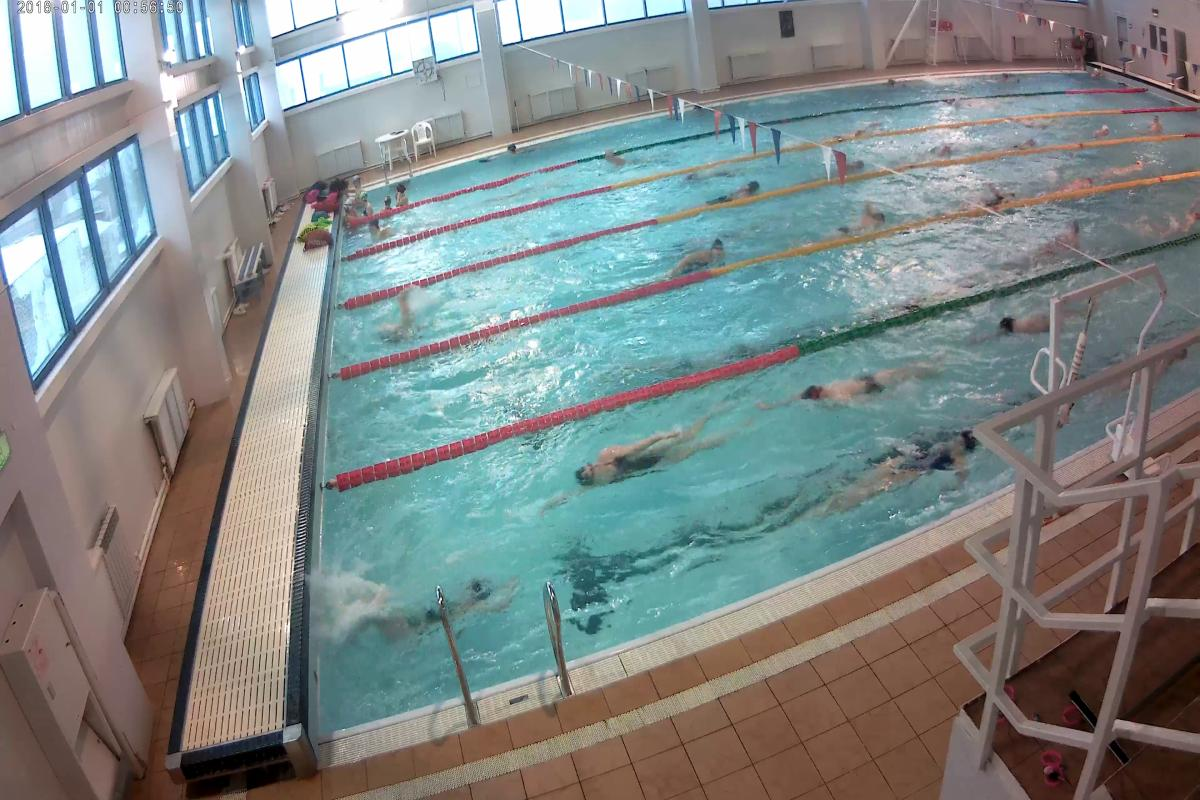swimmer: (552, 415, 708, 497), (770, 353, 929, 411), (865, 425, 972, 495), (353, 582, 500, 628), (658, 234, 736, 276), (986, 304, 1050, 336), (842, 198, 888, 235), (710, 176, 761, 201), (1100, 153, 1154, 175), (979, 180, 1022, 206), (370, 216, 389, 244), (1091, 120, 1114, 136), (1143, 113, 1167, 128)
